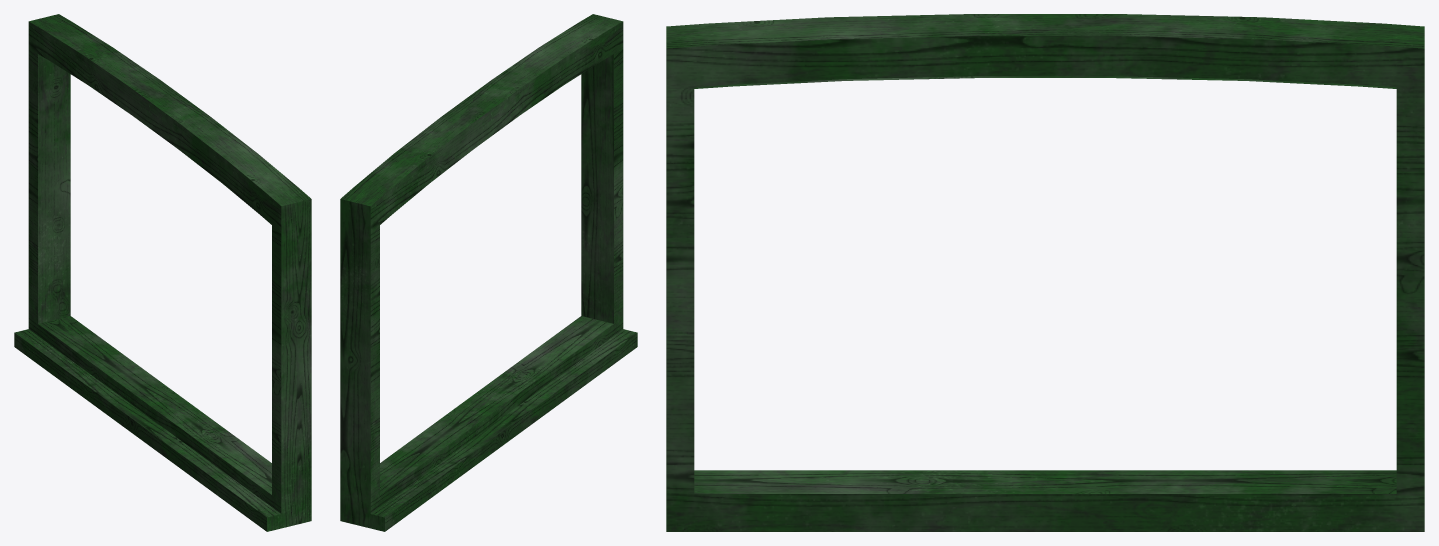
File: VentanasA.fbx
The picture shows the model from 3 angles, left to right: view 1: azimuth 30°, elevation 25°; view 2: azimuth 150°, elevation 25°; view 3: azimuth 270°, elevation 25°; orthographic projection. The views are drawn at different scales.
Visible parts, largest first — view 1: Cube.015; view 2: Cube.015; view 3: Cube.015.
Boxes of the visible parts, left/top/right/bottom form: Cube.015: left=14, top=14, right=311, bottom=531; Cube.015: left=340, top=14, right=637, bottom=531; Cube.015: left=666, top=14, right=1424, bottom=531.
Size of the model in its own units: 23.81 by 160 by 222.
